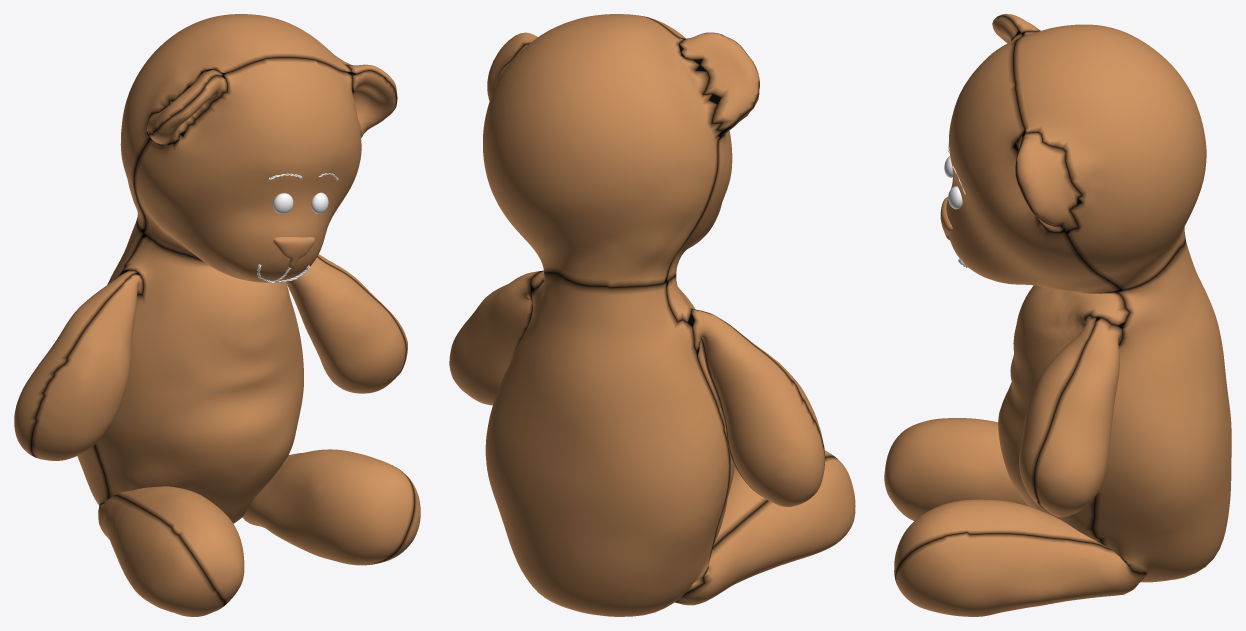
The model's file is BlenderGuruTeddyBear2.fbx.
The picture shows the model from 3 angles, left to right: view 1: azimuth 30°, elevation 25°; view 2: azimuth 150°, elevation 25°; view 3: azimuth 270°, elevation 25°; orthographic projection. The views are drawn at different scales.
Parts seen in each view (by area): view 1: teddy; view 2: teddy; view 3: teddy.
Part boxes in pixels (<box>): teddy: <box>14,14,420,616</box>; teddy: <box>449,14,855,616</box>; teddy: <box>884,14,1231,616</box>.
Size of the model in its own units: 186 by 249 by 143.
